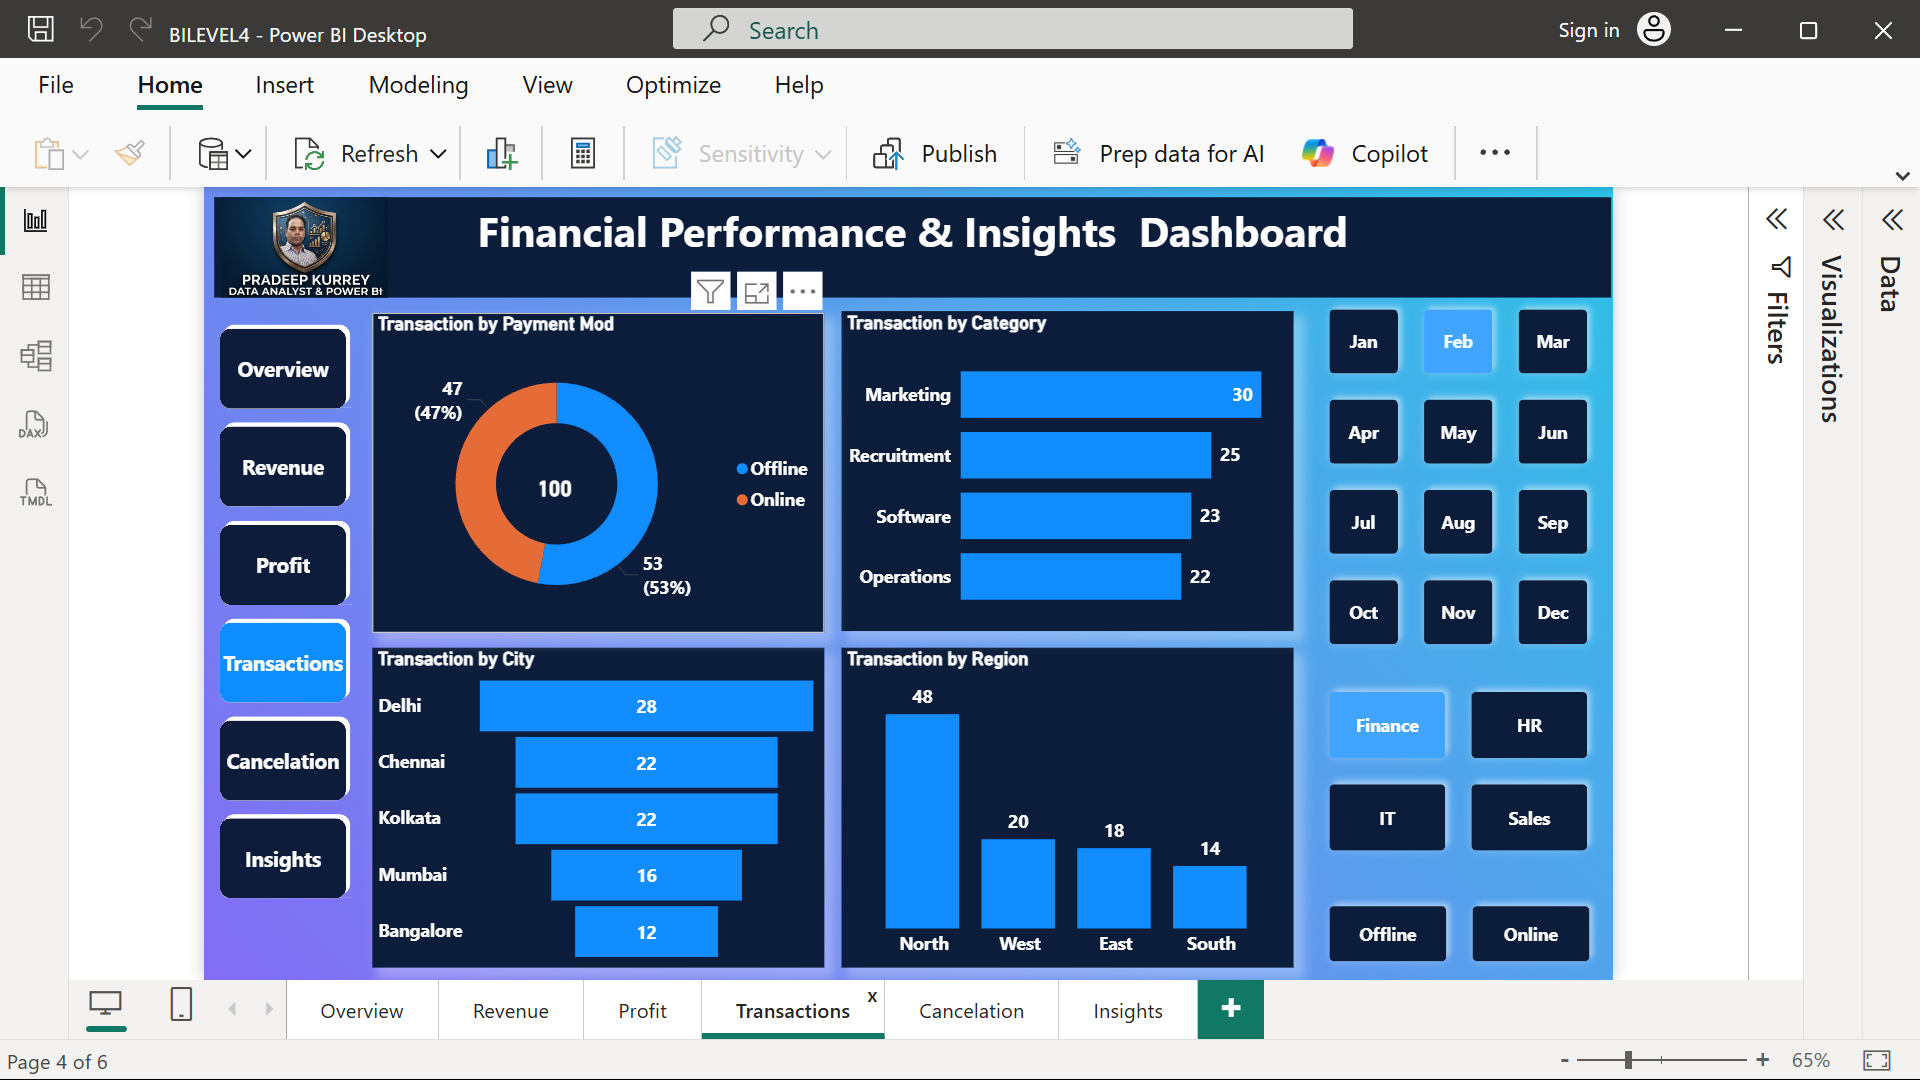

The dashboard page shown, as its layout file describes it:
{"tool":"powerbi","page":{"name":"Transactions ","canvas":[1280,720],"ordinal":3},"visuals":[{"type":"group","id":"g1","title":"Group 1","box":[8.9,8.9,1268.9,91.1],"z":0},{"type":"textbox","box":[8.9,8.9,1268.9,91.1],"z":0,"group":"g1"},{"type":"image","box":[8.9,8.9,164.4,91.1],"z":1000,"group":"g1"},{"type":"advancedSlicerVisual","fields":{"Values":["Date Table.Month"]},"box":[1004.7,93.8,270.5,340.4],"z":1000},{"type":"funnel","title":"Transaction by City","fields":{"Category":["Sheet1.City"],"Y":["Date Table.transaction2024"]},"box":[152.7,417.7,410.3,290.7],"z":2000},{"type":"clusteredColumnChart","title":"Transaction by Region","fields":{"Category":["Sheet1.Region"],"Y":["Date Table.transaction2024"]},"box":[579.6,417.7,410.3,290.7],"z":3000},{"type":"clusteredBarChart","title":"Transaction by Category","fields":{"Category":["Sheet1.Category"],"Y":["Date Table.transaction2024"]},"box":[579.6,112.2,410.3,290.7],"z":4000},{"type":"donutChart","title":"Transaction by  Payment Mod","fields":{"Y":["Date Table.transaction2024"],"Series":["Sheet1.Payment_Mode"]},"box":[152.7,114.1,410.3,290.7],"z":5000},{"type":"pageNavigator","box":[9.2,123.3,125.1,529.9],"z":6000},{"type":"advancedSlicerVisual","fields":{"Values":["Sheet1.Payment_Mode"]},"box":[1004.7,635.4,270.5,84.6],"z":7000},{"type":"advancedSlicerVisual","fields":{"Values":["Sheet1.Department"]},"box":[1004.7,441.6,268.6,178.5],"z":8000},{"type":"card","fields":{"Values":["Date Table.transaction2024"]},"box":[283.4,250.2,68.1,47.8],"z":9000}]}

Visuals, with their boxes on the page's 1280x720 design canvas (x1, y1, x2, y2). These are canvas units, not pixel positions in the 1920x1080 screenshot, which may show the page scaled, cropped or inside an application window:
"Group 1" group: 9/9/1278/100
textbox: 9/9/1278/100
image: 9/9/173/100
advancedSlicerVisual - Date Table.Month: 1005/94/1275/434
"Transaction by City" funnel: 153/418/563/708
"Transaction by Region" clusteredColumnChart: 580/418/990/708
"Transaction by Category" clusteredBarChart: 580/112/990/403
"Transaction by  Payment Mod" donutChart: 153/114/563/405
pageNavigator: 9/123/134/653
advancedSlicerVisual - Sheet1.Payment_Mode: 1005/635/1275/720
advancedSlicerVisual - Sheet1.Department: 1005/442/1273/620
card - Date Table.transaction2024: 283/250/352/298
